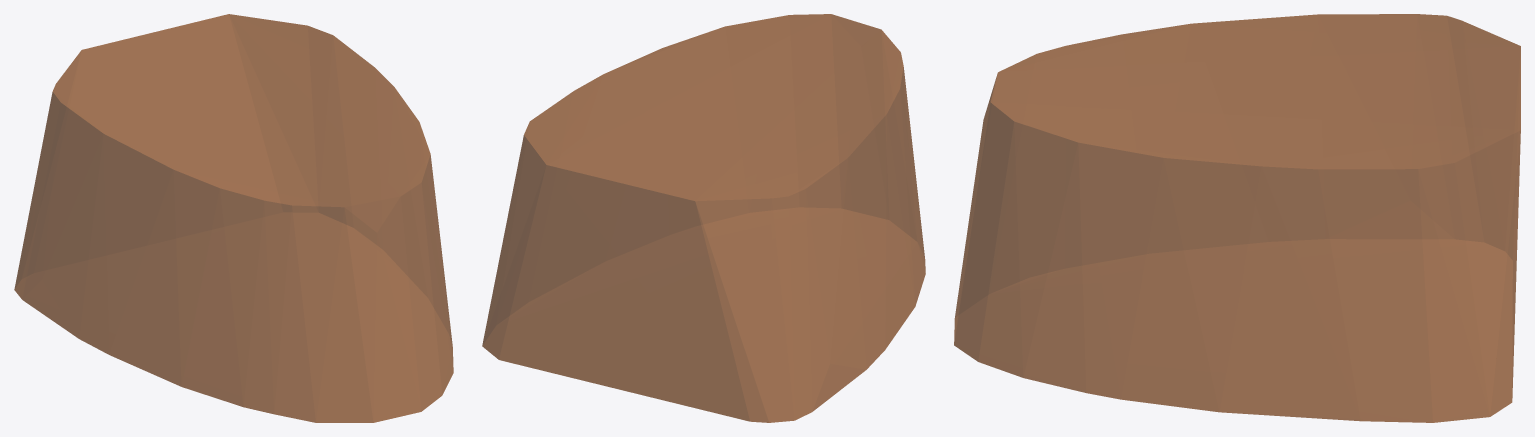
3 views of the same model, side by side, from view 1: azimuth 30°, elevation 25°; view 2: azimuth 150°, elevation 25°; view 3: azimuth 270°, elevation 25° (orthographic). The views are drawn at different scales.
Parts seen in each view (by area): view 1: Shape_IndexedFaceSet.005_Shape_IndexedFaceSet.3343; view 2: Shape_IndexedFaceSet.005_Shape_IndexedFaceSet.3343; view 3: Shape_IndexedFaceSet.005_Shape_IndexedFaceSet.3343.
Boxes of the visible parts, x1,y1,x2,y2 form: Shape_IndexedFaceSet.005_Shape_IndexedFaceSet.3343: (14, 14, 453, 422); Shape_IndexedFaceSet.005_Shape_IndexedFaceSet.3343: (482, 14, 925, 422); Shape_IndexedFaceSet.005_Shape_IndexedFaceSet.3343: (954, 14, 1520, 422).
Bounding box in the file's own units: 0.4893 × 0.3026 × 0.6375.
